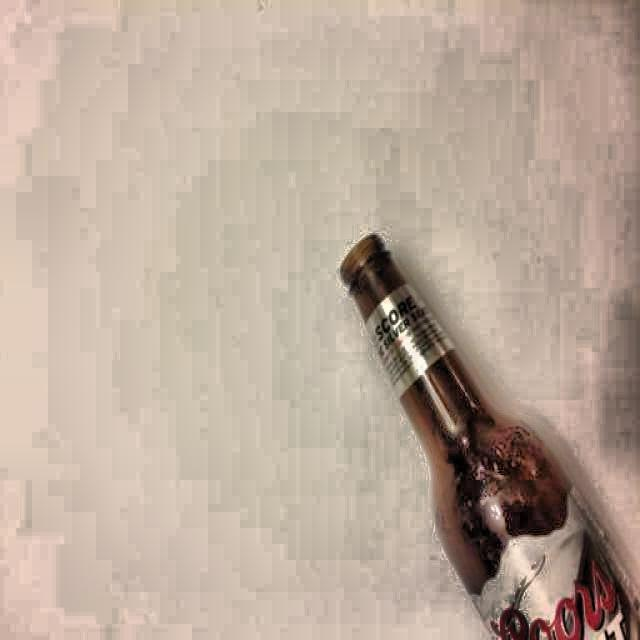glass: (338, 236, 640, 640)
